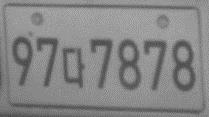7: (142, 39, 167, 91), (89, 38, 113, 89), (35, 36, 58, 87)
8: (171, 39, 196, 92), (117, 38, 141, 89)
9: (11, 36, 34, 86)
다: (61, 47, 85, 89)
